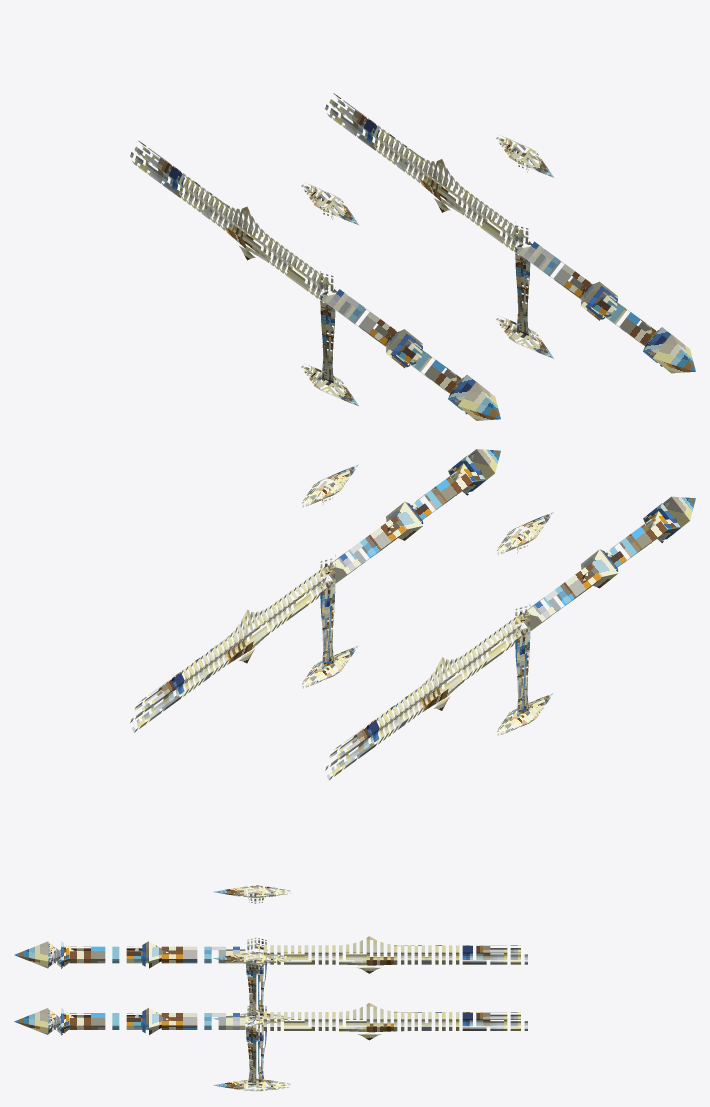
Rendered from ruine.glb.
3 renders of one model, top to bottom at view 1: azimuth 30°, elevation 25°; view 2: azimuth 150°, elevation 25°; view 3: azimuth 270°, elevation 25°, orthographic. The views are drawn at different scales.
Visible parts, largest first — view 1: main__Tool_R, off__Tool_L; view 2: main__Tool_R, off__Tool_L; view 3: main__Tool_R, off__Tool_L.
Boxes of the visible parts, x1=… form: main__Tool_R: x1=325, y1=93, x2=695, y2=373; off__Tool_L: x1=130, y1=141, x2=500, y2=420; main__Tool_R: x1=130, y1=449, x2=500, y2=732; off__Tool_L: x1=325, y1=496, x2=695, y2=780; main__Tool_R: x1=14, y1=952, x2=527, y2=1091; off__Tool_L: x1=14, y1=885, x2=527, y2=1024.
Size of the model in its own units: 0.8976 by 0.7274 by 3.25.
Materials: 1 (1 with a texture image).
